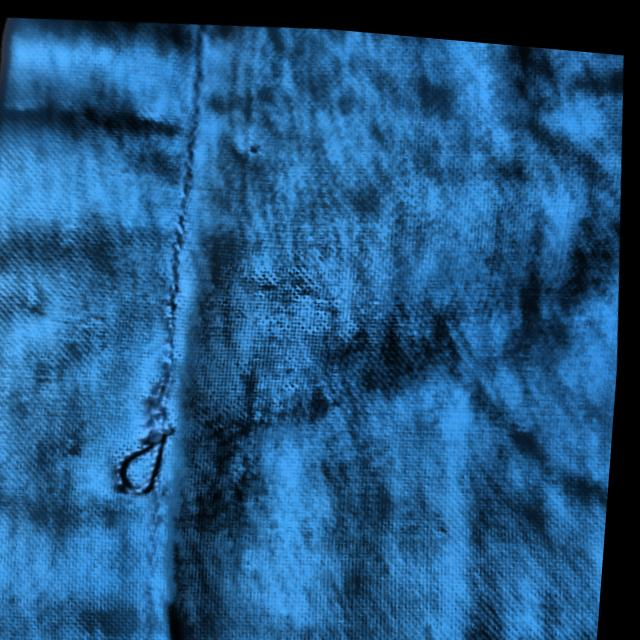Stitch: (101, 364, 223, 518)
